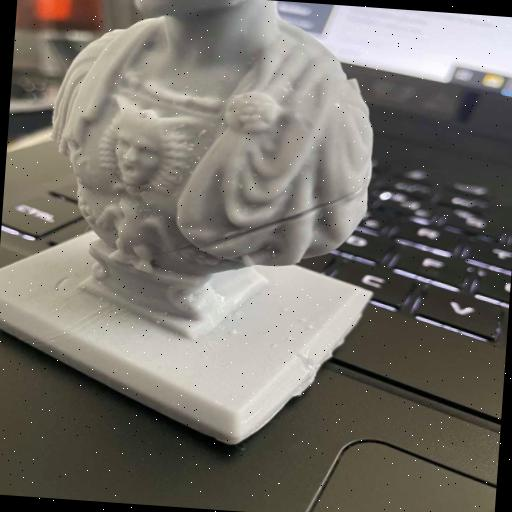cracks: (148, 164, 366, 274)
